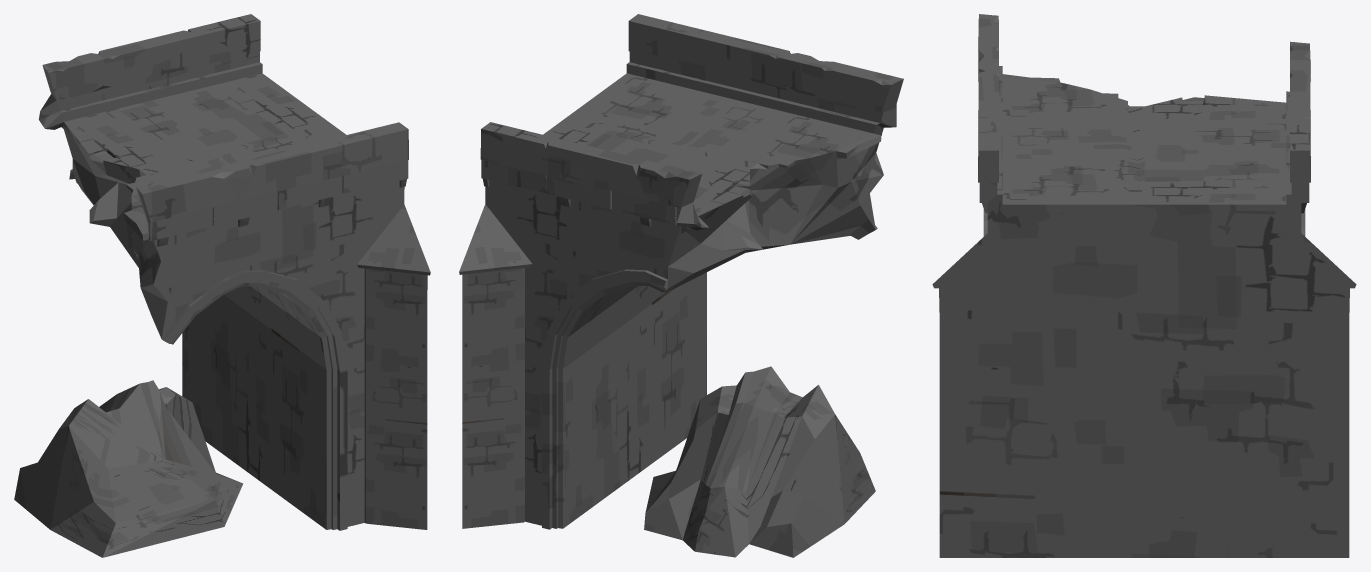
The model's file is SM_Env_Bridge_Damaged_Middle.fbx.
3 views of the same model, side by side, from view 1: azimuth 30°, elevation 25°; view 2: azimuth 150°, elevation 25°; view 3: azimuth 270°, elevation 25° (orthographic). The views are drawn at different scales.
Parts seen in each view (by area): view 1: SM_Env_Bridge_Damaged_Middle, SM_Env_Bridge_Rubble, SM_Env_City_Road; view 2: SM_Env_Bridge_Damaged_Middle, SM_Env_Bridge_Rubble, SM_Env_City_Road; view 3: SM_Env_Bridge_Damaged_Middle, SM_Env_City_Road.
Boxes of the visible parts, <box> form: SM_Env_Bridge_Damaged_Middle: <box>38,14,430,530</box>; SM_Env_Bridge_Rubble: <box>14,380,243,557</box>; SM_Env_City_Road: <box>64,73,345,230</box>; SM_Env_Bridge_Damaged_Middle: <box>459,14,903,529</box>; SM_Env_Bridge_Rubble: <box>644,366,875,557</box>; SM_Env_City_Road: <box>543,73,873,216</box>; SM_Env_Bridge_Damaged_Middle: <box>932,14,1356,557</box>; SM_Env_City_Road: <box>1002,77,1286,204</box>.
Bounding box in the file's own units: 5.55 × 7.38 × 6.86.
1 material, 1 textured.
